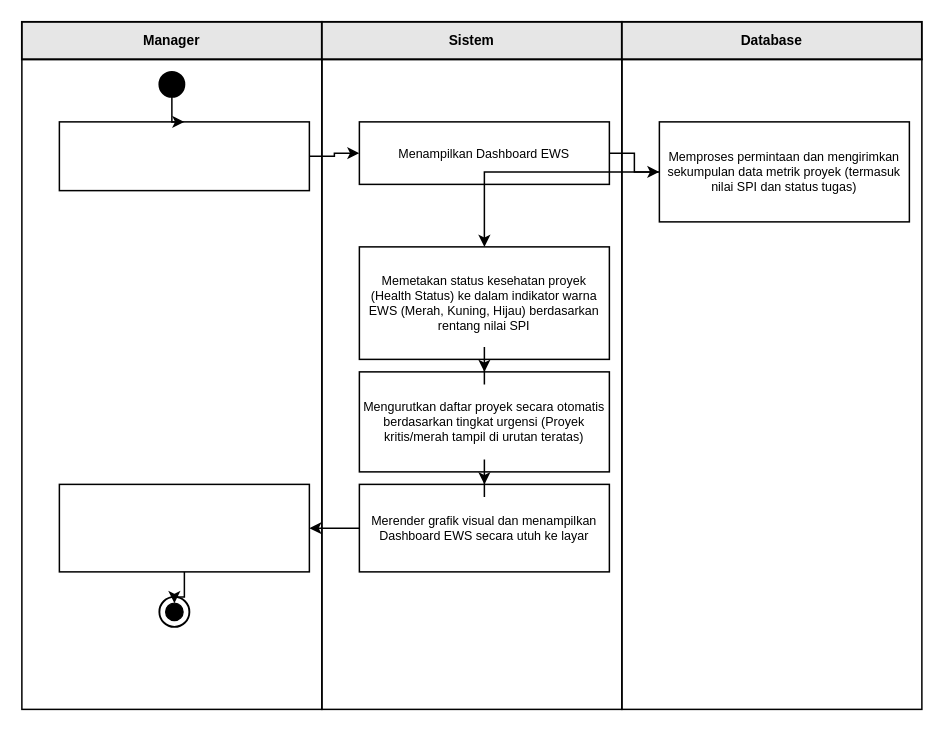
This 945x733 diagram has some shape labels left out. Each missing label, with the centre of its shape:
"Melihat visualisasi data dan mengevaluasi status kesehatan seluruh proyek" belongs at (x=184, y=527).
"Mengakses halaman Dashboard Utama EWS" belongs at (x=184, y=155).
